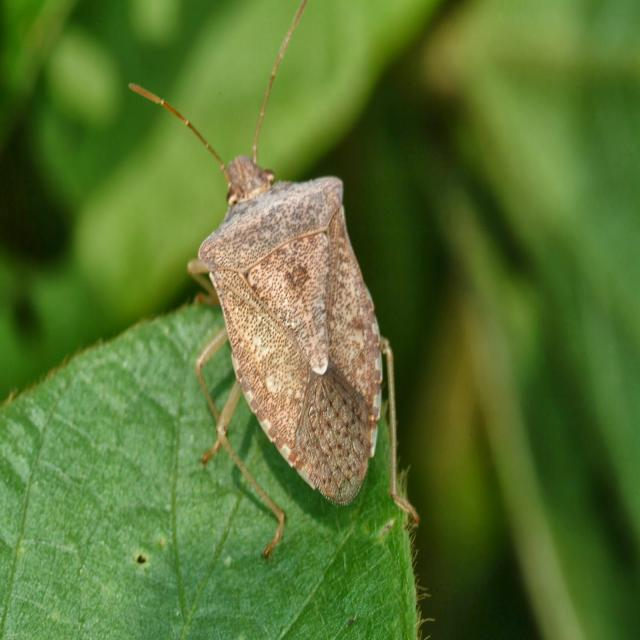stink_bug: (117, 4, 429, 558)
